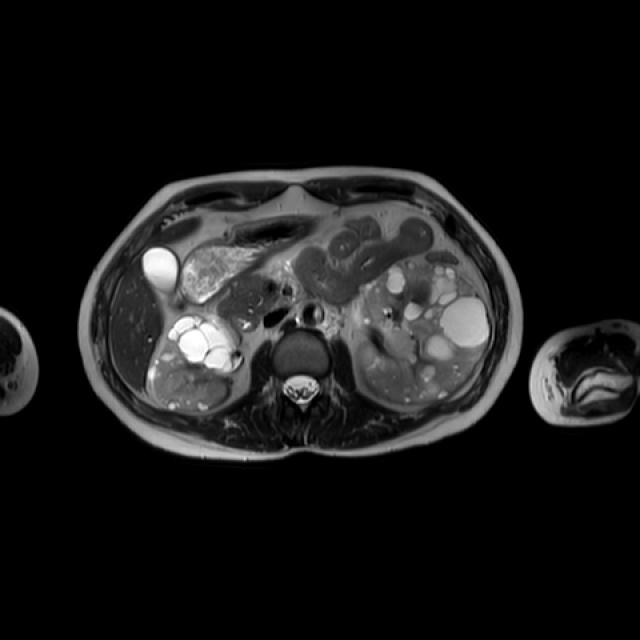sag: (147, 311, 243, 412)
sol: (357, 258, 491, 408)
